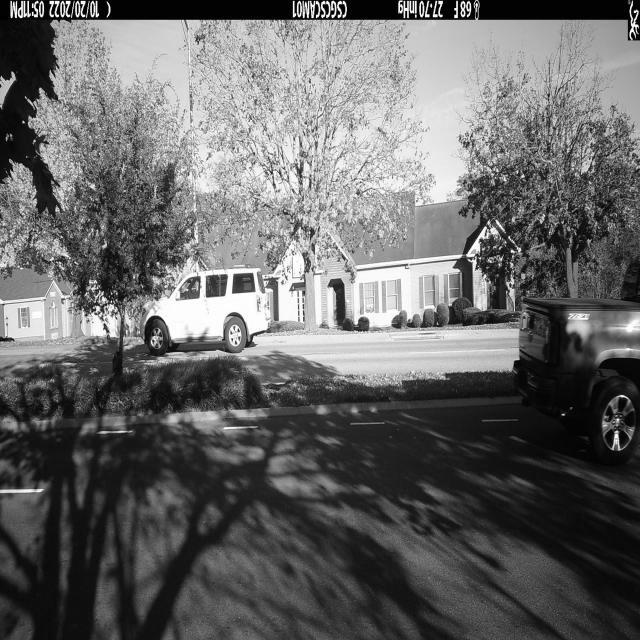SUV: (140, 268, 272, 355)
